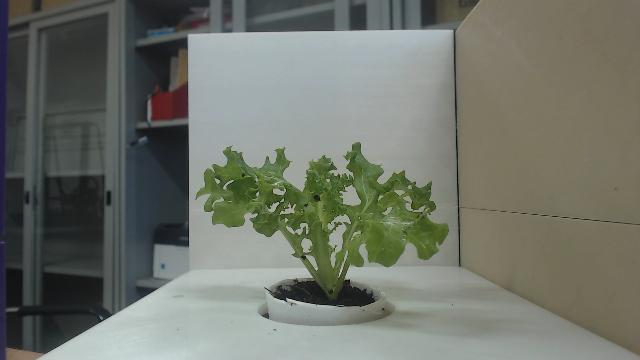Vegetative Stage: (194, 139, 448, 303)
